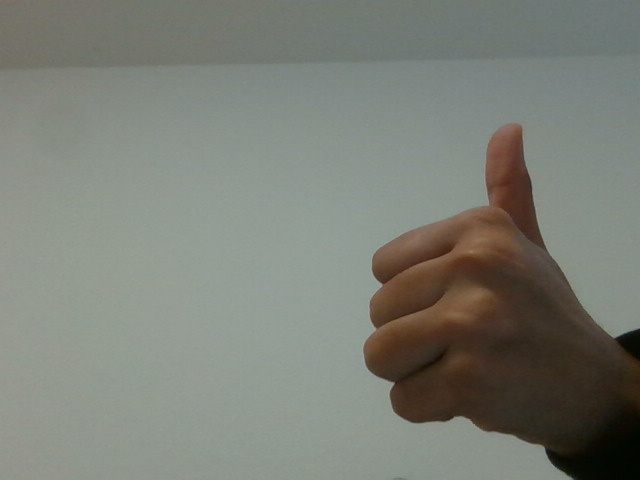Thumbs up: (334, 113, 621, 450)
